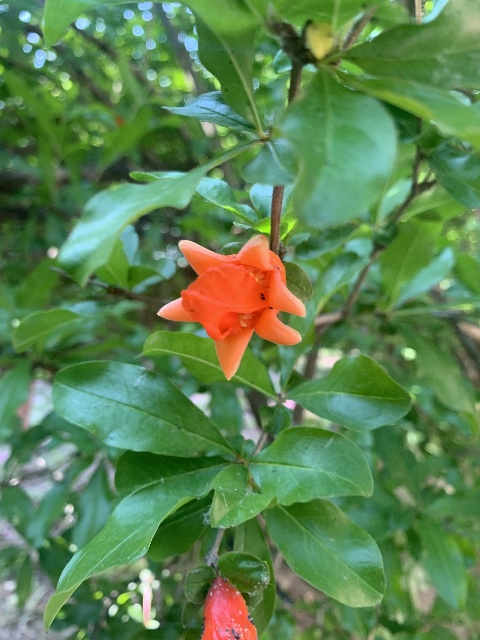flower: (156, 234, 306, 380)
